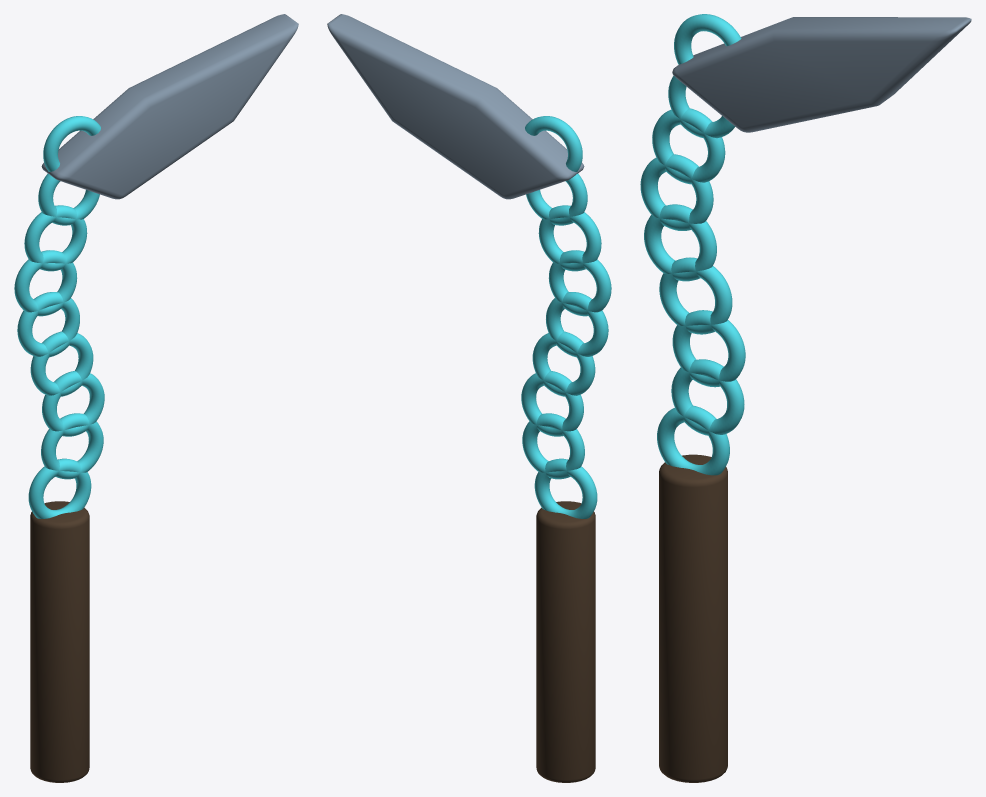
File: scythe_v5.glb
The picture shows the model from 3 angles, left to right: view 1: azimuth 30°, elevation 25°; view 2: azimuth 150°, elevation 25°; view 3: azimuth 330°, elevation 25°; orthographic projection. The views are drawn at different scales.
Parts seen in each view (by area): view 1: CHAIN_SCYTHE_BLADE_PRIMARY, CHAIN_SCYTHE_GRIP_SECONDARY, CHAIN_LINK_ACCENT.001, CHAIN_LINK_ACCENT.006, CHAIN_LINK_ACCENT.005, CHAIN_LINK_ACCENT.004, CHAIN_LINK_ACCENT.002, CHAIN_LINK_ACCENT, CHAIN_LINK_ACCENT.003, CHAIN_LINK_ACCENT.008, CHAIN_LINK_ACCENT.007; view 2: CHAIN_SCYTHE_BLADE_PRIMARY, CHAIN_SCYTHE_GRIP_SECONDARY, CHAIN_LINK_ACCENT.001, CHAIN_LINK_ACCENT.006, CHAIN_LINK_ACCENT.005, CHAIN_LINK_ACCENT.004, CHAIN_LINK_ACCENT.002, CHAIN_LINK_ACCENT, CHAIN_LINK_ACCENT.003, CHAIN_LINK_ACCENT.008, CHAIN_LINK_ACCENT.007; view 3: CHAIN_SCYTHE_BLADE_PRIMARY, CHAIN_SCYTHE_GRIP_SECONDARY, CHAIN_LINK_ACCENT.004, CHAIN_LINK_ACCENT.003, CHAIN_LINK_ACCENT.001, CHAIN_LINK_ACCENT.002, CHAIN_LINK_ACCENT.005, CHAIN_LINK_ACCENT.006, CHAIN_LINK_ACCENT, CHAIN_LINK_ACCENT.008, CHAIN_LINK_ACCENT.007.
Boxes of the visible parts, x1=… form: CHAIN_SCYTHE_BLADE_PRIMARY: x1=41, y1=14, x2=298, y2=199; CHAIN_SCYTHE_GRIP_SECONDARY: x1=30, y1=501, x2=89, y2=782; CHAIN_LINK_ACCENT.001: x1=41, y1=413, x2=103, y2=479; CHAIN_LINK_ACCENT.006: x1=24, y1=205, x2=87, y2=271; CHAIN_LINK_ACCENT.005: x1=14, y1=250, x2=77, y2=316; CHAIN_LINK_ACCENT.004: x1=17, y1=292, x2=79, y2=357; CHAIN_LINK_ACCENT.002: x1=42, y1=371, x2=104, y2=436; CHAIN_LINK_ACCENT: x1=28, y1=458, x2=91, y2=518; CHAIN_LINK_ACCENT.003: x1=30, y1=331, x2=93, y2=396; CHAIN_LINK_ACCENT.008: x1=43, y1=116, x2=100, y2=171; CHAIN_LINK_ACCENT.007: x1=38, y1=173, x2=99, y2=225; CHAIN_SCYTHE_BLADE_PRIMARY: x1=327, y1=14, x2=584, y2=199; CHAIN_SCYTHE_GRIP_SECONDARY: x1=536, y1=501, x2=595, y2=782; CHAIN_LINK_ACCENT.001: x1=522, y1=413, x2=584, y2=479; CHAIN_LINK_ACCENT.006: x1=538, y1=205, x2=601, y2=271; CHAIN_LINK_ACCENT.005: x1=548, y1=250, x2=611, y2=316; CHAIN_LINK_ACCENT.004: x1=546, y1=292, x2=608, y2=357; CHAIN_LINK_ACCENT.002: x1=521, y1=371, x2=583, y2=436; CHAIN_LINK_ACCENT: x1=534, y1=458, x2=597, y2=518; CHAIN_LINK_ACCENT.003: x1=532, y1=331, x2=595, y2=396; CHAIN_LINK_ACCENT.008: x1=525, y1=116, x2=582, y2=171; CHAIN_LINK_ACCENT.007: x1=526, y1=173, x2=587, y2=225; CHAIN_SCYTHE_BLADE_PRIMARY: x1=672, y1=17, x2=971, y2=132; CHAIN_SCYTHE_GRIP_SECONDARY: x1=659, y1=454, x2=727, y2=782; CHAIN_LINK_ACCENT.004: x1=644, y1=204, x2=716, y2=281; CHAIN_LINK_ACCENT.003: x1=659, y1=257, x2=732, y2=334; CHAIN_LINK_ACCENT.001: x1=671, y1=359, x2=744, y2=435; CHAIN_LINK_ACCENT.002: x1=672, y1=310, x2=745, y2=387; CHAIN_LINK_ACCENT.005: x1=640, y1=154, x2=713, y2=230; CHAIN_LINK_ACCENT.006: x1=652, y1=108, x2=725, y2=184; CHAIN_LINK_ACCENT: x1=657, y1=405, x2=729, y2=475; CHAIN_LINK_ACCENT.008: x1=674, y1=14, x2=741, y2=64; CHAIN_LINK_ACCENT.007: x1=668, y1=75, x2=734, y2=138.
Size of the model in its own units: 1.5 by 3.62 by 0.28.
